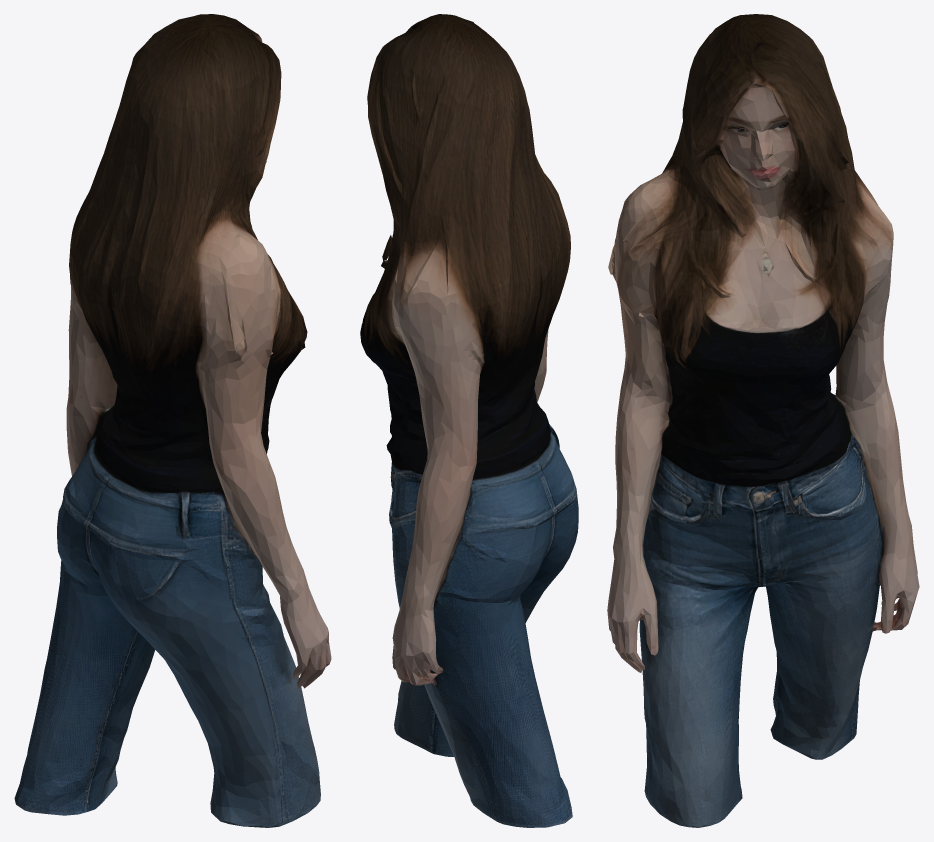
File: teste2.glb
3 views of the same model, side by side, from view 1: azimuth 30°, elevation 25°; view 2: azimuth 150°, elevation 25°; view 3: azimuth 270°, elevation 25° (orthographic). The views are drawn at different scales.
Visible parts, largest first — view 1: tripo_node_65c9d198-bbf1-42c9-ac9c-ac6352e982eb; view 2: tripo_node_65c9d198-bbf1-42c9-ac9c-ac6352e982eb; view 3: tripo_node_65c9d198-bbf1-42c9-ac9c-ac6352e982eb.
Boxes of the visible parts, x1,y1,x2,y2 form: tripo_node_65c9d198-bbf1-42c9-ac9c-ac6352e982eb: [14, 14, 331, 827]; tripo_node_65c9d198-bbf1-42c9-ac9c-ac6352e982eb: [360, 14, 578, 827]; tripo_node_65c9d198-bbf1-42c9-ac9c-ac6352e982eb: [607, 14, 919, 827].
Size of the model in its own units: 0.3226 by 0.9975 by 0.3668.
Materials: 1 (1 with a texture image).
